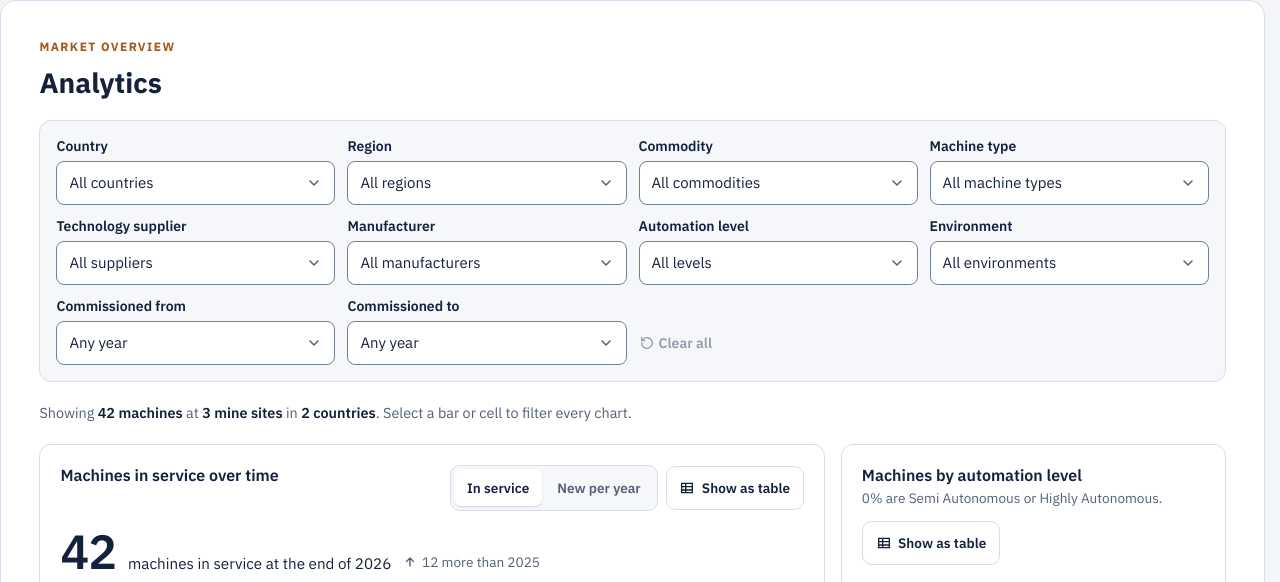
Test: AnalyticsPage live API behaviour › leads the timeline with the latest year and the change from the year before
Expected: the text "machines in service at the end of 2026" is shown, [128,553,391,573]
Expected: the text "12 more than 2025" is shown, [403,553,540,571]
Click the button "New per year": {"x": 599, "y": 488} [544,469,654,506]
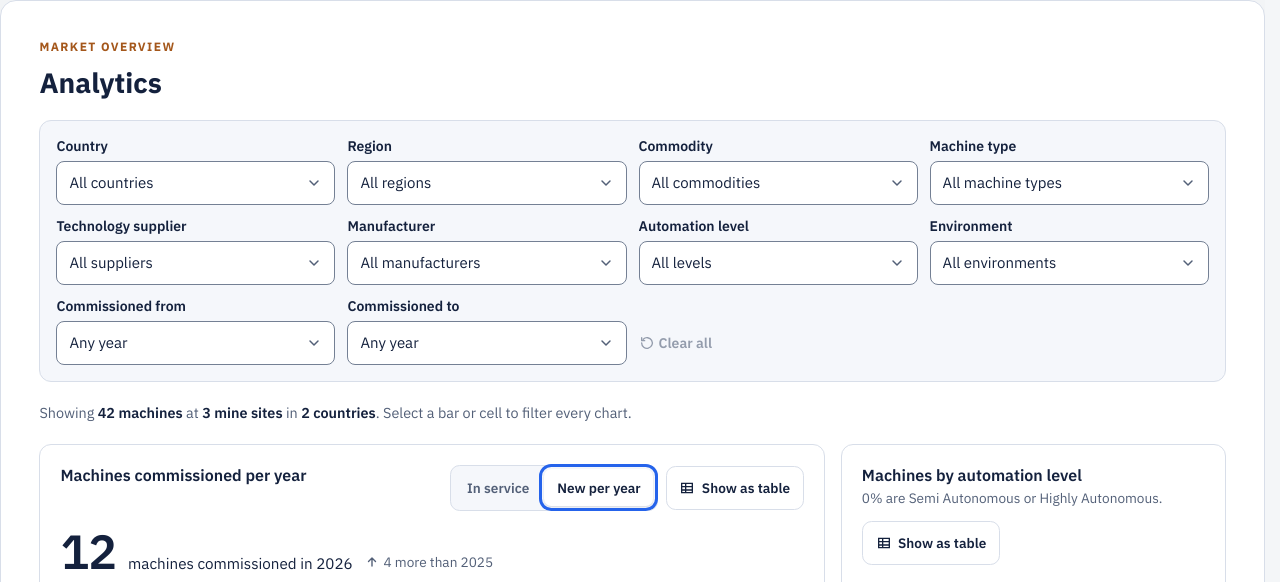
Expected: the heading "Machines commissioned per year" is shown, [60,465,306,486]
Expected: the text "machines commissioned in 2026" is shown, [128,553,353,573]
Expected: the text "4 more than 2025" is shown, [365,553,493,571]
